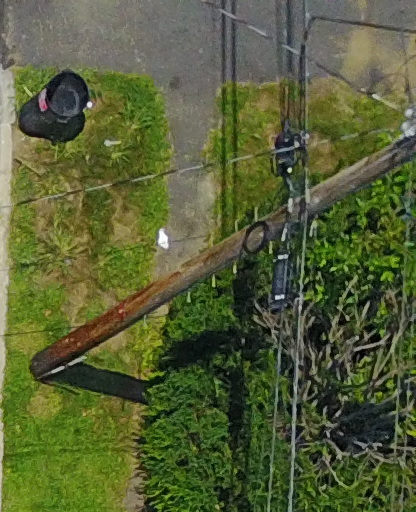garbage bin: (6, 41, 116, 141)
